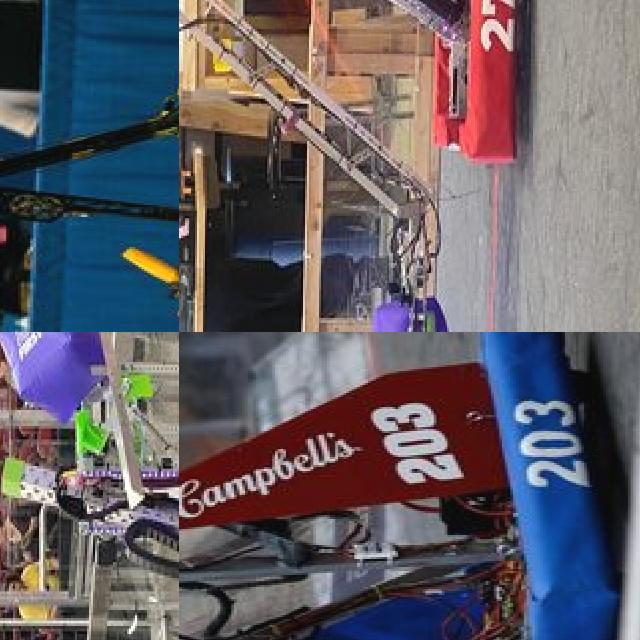FRC-Robots: (179, 332, 608, 640), (179, 0, 546, 332), (0, 332, 179, 640), (0, 15, 179, 303)
